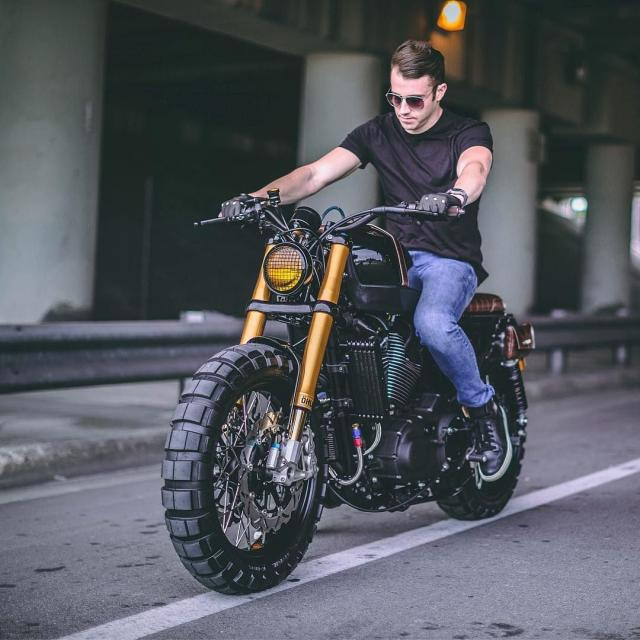Not Wearing Helmet: (340, 77, 521, 168)
